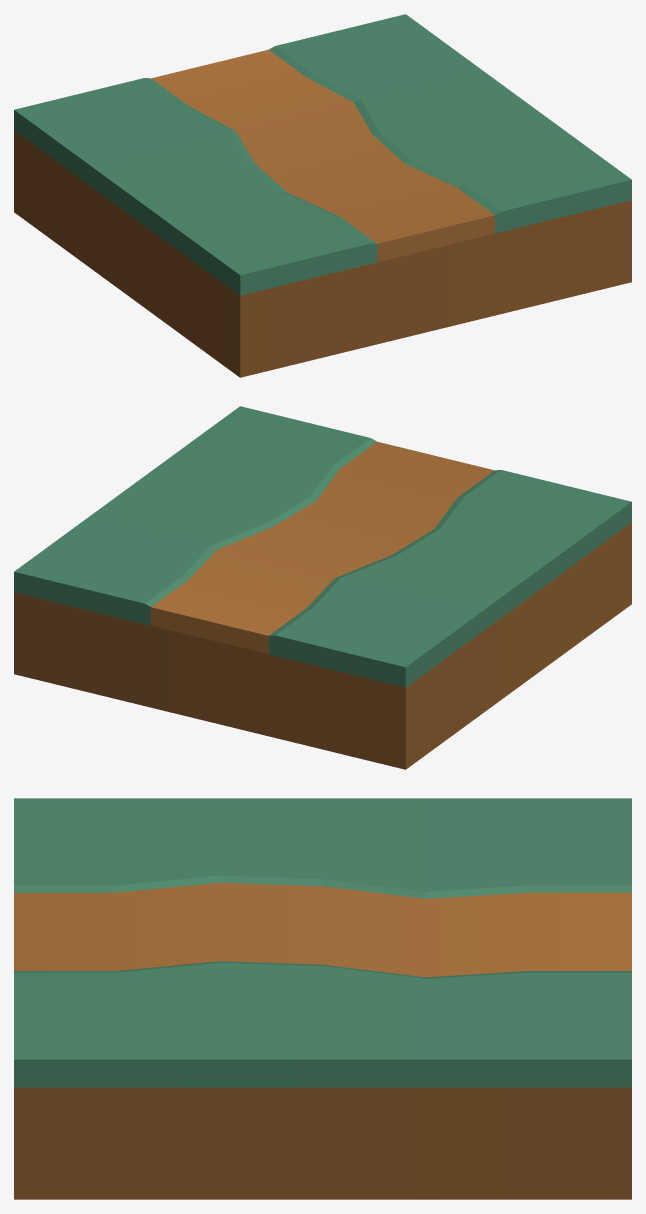
The model's file is Ground_Trail_01.fbx.
3 views of the same model, one above another, from view 1: azimuth 30°, elevation 25°; view 2: azimuth 150°, elevation 25°; view 3: azimuth 270°, elevation 25° (orthographic). The views are drawn at different scales.
Visible parts, largest first — view 1: Ground_Trail_01; view 2: Ground_Trail_01; view 3: Ground_Trail_01.
Part boxes in pixels (x1,y1,x2,y2): Ground_Trail_01: (14,14,631,377); Ground_Trail_01: (14,406,631,769); Ground_Trail_01: (14,798,631,1199).
Size of the model in its own units: 40 by 10 by 40.
